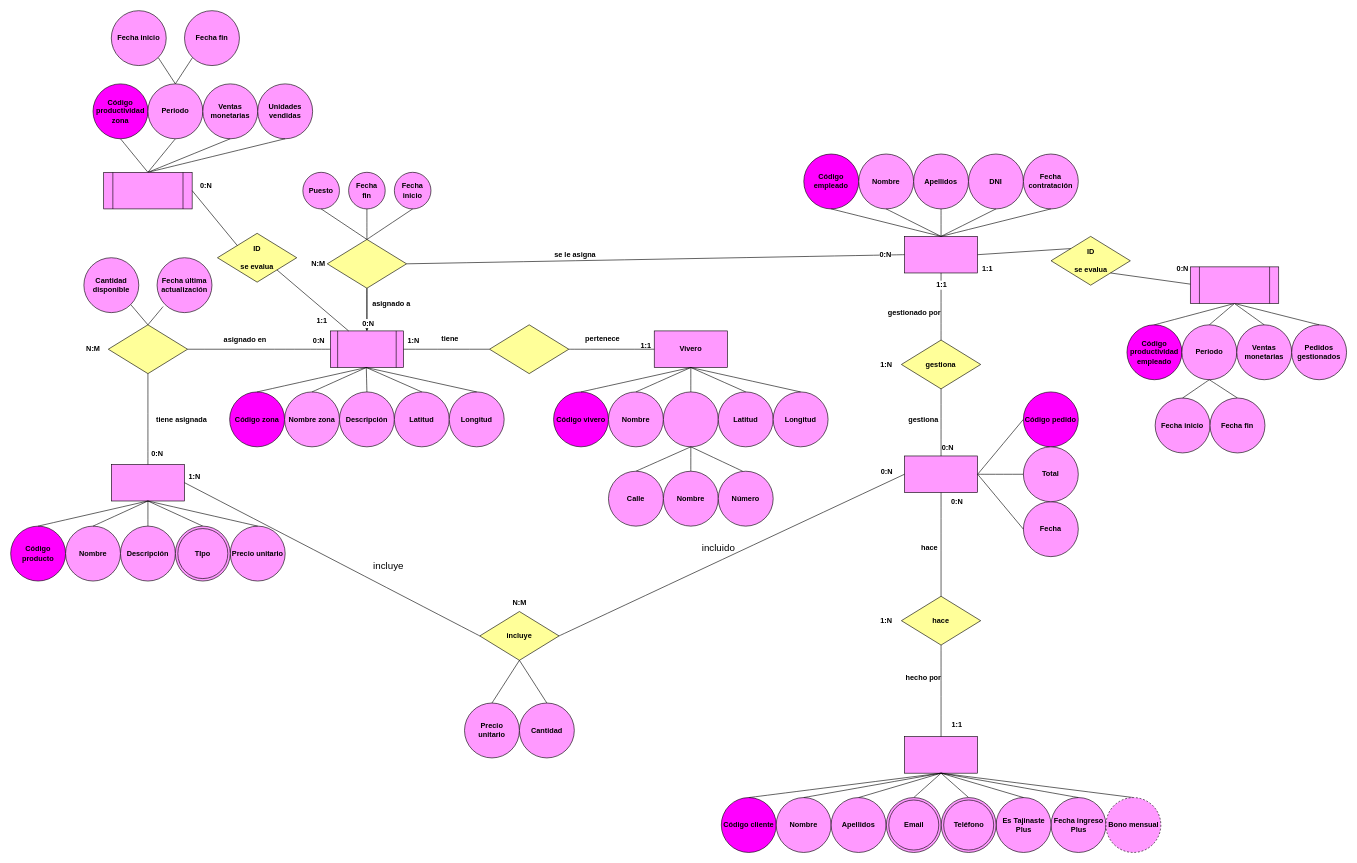
Some shapes in this 1357 by 863 pixel diagram are drawn without their labels. The shapes that lost their labels are listed below. From the top down, each one's centre as x and y in pixels, then its label:
At pixel 147 190: "Productividad zona".
At pixel 367 263: "asignacion".
At pixel 941 254: "Empleado".
At pixel 1234 284: "Productividad empleado".
At pixel 148 349: "asigna (stock)".
At pixel 367 349: "Zona".
At pixel 529 349: "ID tiene".
At pixel 690 419: "Dirección".
At pixel 148 482: "Producto".
At pixel 941 474: "Pedido".
At pixel 941 754: "Cliente".
